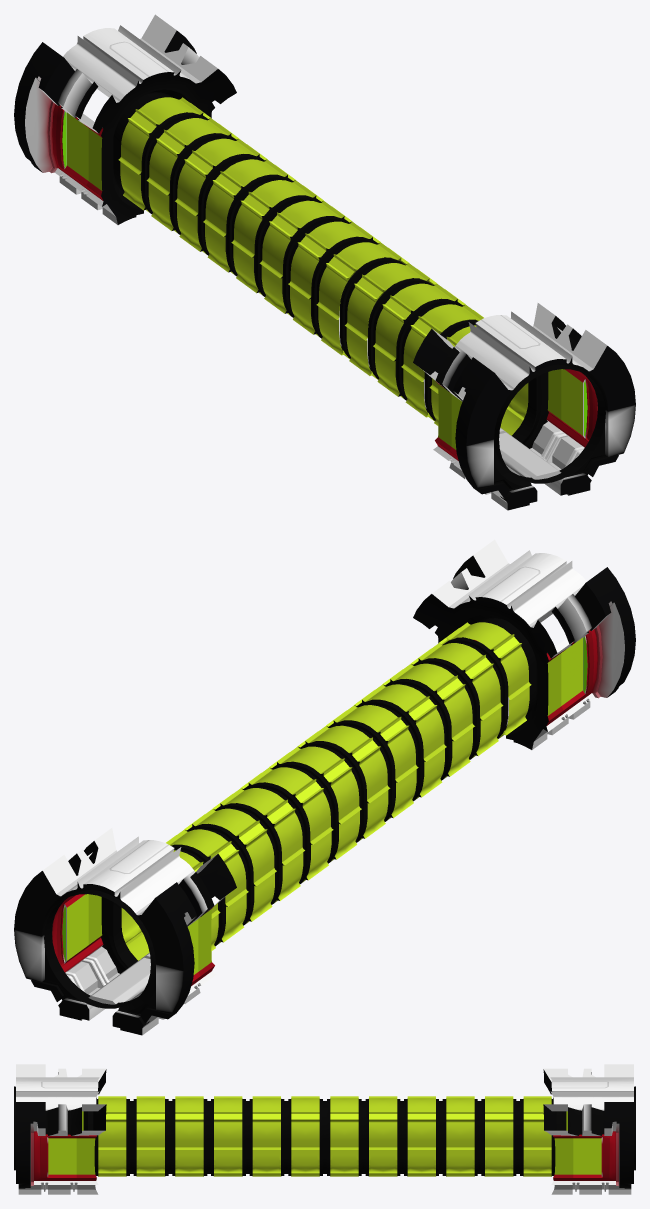
The model's file is part_main-lod0.dae.
3 views of the same model, one above another, from view 1: azimuth 30°, elevation 25°; view 2: azimuth 150°, elevation 25°; view 3: azimuth 270°, elevation 25° (orthographic). The views are drawn at different scales.
Visible parts, largest first — view 1: part_main-lod0Xlod0Xp2genericXgen_p2_hulltextureaged_02_b, part_main-lod0Xlod0Xp2genericXgen_p2_hullpattern_01, part_main-lod0Xlod0Xp2genericXgen_p2_hulltexture_02_c, part_main-lod0Xlod0Xp2multimatXp2_multimat_01; view 2: part_main-lod0Xlod0Xp2genericXgen_p2_hulltextureaged_02_b, part_main-lod0Xlod0Xp2genericXgen_p2_hullpattern_01, part_main-lod0Xlod0Xp2genericXgen_p2_hulltexture_02_c, part_main-lod0Xlod0Xp2multimatXp2_multimat_01; view 3: part_main-lod0Xlod0Xp2genericXgen_p2_hulltextureaged_02_b, part_main-lod0Xlod0Xp2genericXgen_p2_hulltexture_02_c, part_main-lod0Xlod0Xp2genericXgen_p2_hullpattern_01, part_main-lod0Xlod0Xp2multimatXp2_multimat_01.
Part boxes in pixels (x1,y1,x2,y2): part_main-lod0Xlod0Xp2genericXgen_p2_hulltextureaged_02_b: (25,25,618,510); part_main-lod0Xlod0Xp2genericXgen_p2_hullpattern_01: (14,14,635,510); part_main-lod0Xlod0Xp2genericXgen_p2_hulltexture_02_c: (63,28,584,456); part_main-lod0Xlod0Xp2multimatXp2_multimat_01: (52,81,597,460); part_main-lod0Xlod0Xp2genericXgen_p2_hulltextureaged_02_b: (31,550,624,1035); part_main-lod0Xlod0Xp2genericXgen_p2_hullpattern_01: (14,539,635,1035); part_main-lod0Xlod0Xp2genericXgen_p2_hulltexture_02_c: (65,553,586,981); part_main-lod0Xlod0Xp2multimatXp2_multimat_01: (52,606,597,985); part_main-lod0Xlod0Xp2genericXgen_p2_hulltextureaged_02_b: (14,1077,635,1194); part_main-lod0Xlod0Xp2genericXgen_p2_hulltexture_02_c: (16,1080,633,1177); part_main-lod0Xlod0Xp2genericXgen_p2_hullpattern_01: (16,1064,633,1191); part_main-lod0Xlod0Xp2multimatXp2_multimat_01: (34,1072,615,1180).
Size of the model in its own units: 27.74 by 22.3 by 129.
